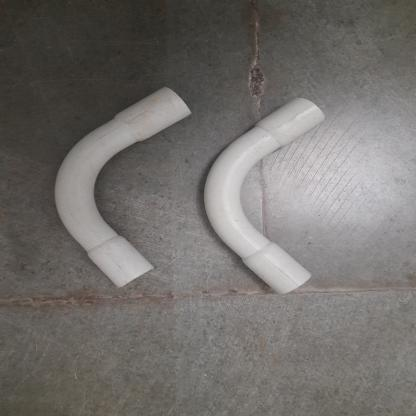PVC: (58, 88, 192, 288), (202, 97, 326, 295)
